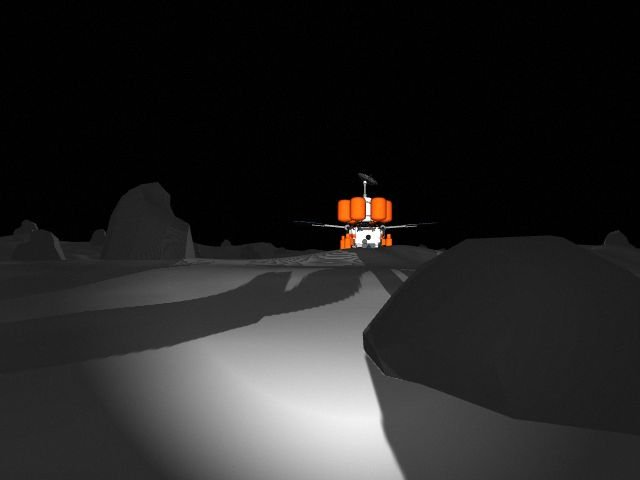homebase: (294, 172, 438, 257)
